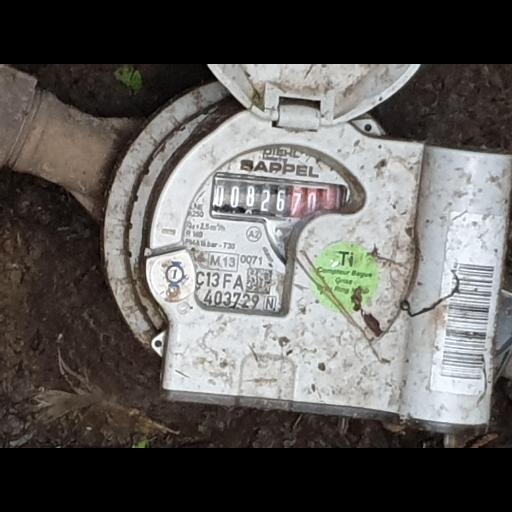0: (228, 179, 243, 216), (213, 177, 228, 213), (304, 187, 319, 219)
1: (318, 183, 338, 212)
2: (258, 181, 275, 219)
6: (274, 182, 289, 220)
7: (288, 185, 304, 220)
8: (242, 180, 258, 217)
border_water_meter_number: (209, 172, 348, 231)
